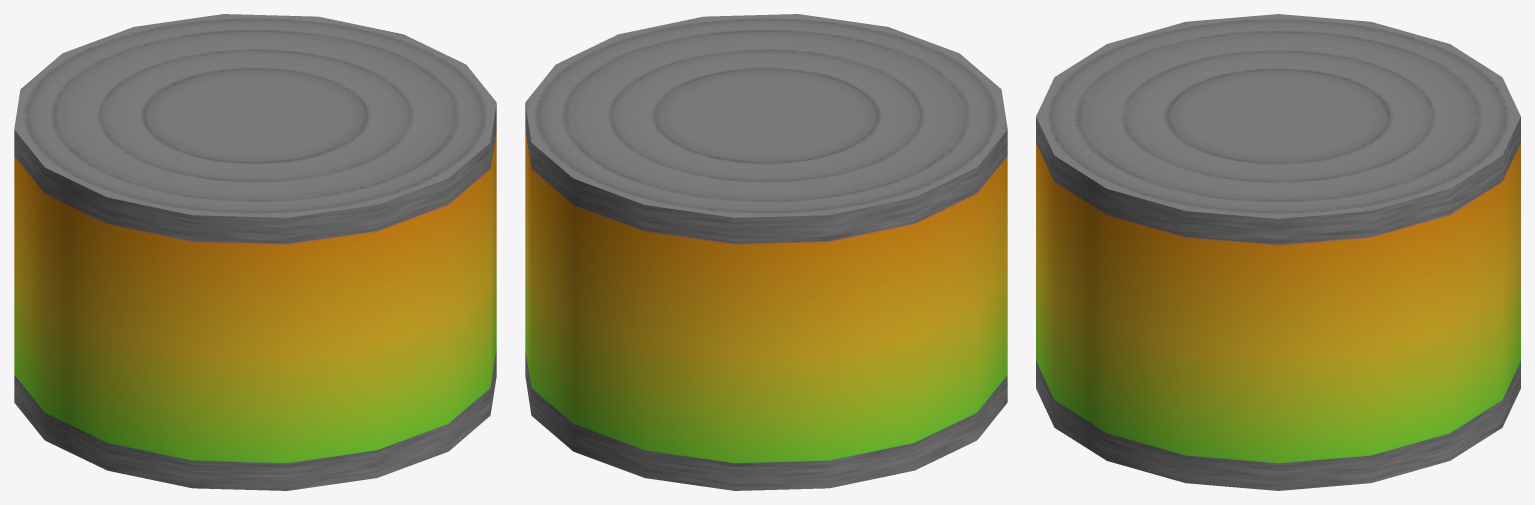
Rendered from tincangradient.glb.
3 renders of one model, left to right at view 1: azimuth 30°, elevation 25°; view 2: azimuth 150°, elevation 25°; view 3: azimuth 270°, elevation 25°, orthographic.
Visible parts, largest first — view 1: tincangradient; view 2: tincangradient; view 3: tincangradient.
Part boxes in pixels (x1,y1,x2,y2): tincangradient: (14,14,496,490); tincangradient: (525,14,1007,490); tincangradient: (1036,14,1520,490).
Size of the model in its own units: 0.3916 by 0.2424 by 0.3916.
1 material, 1 textured.
